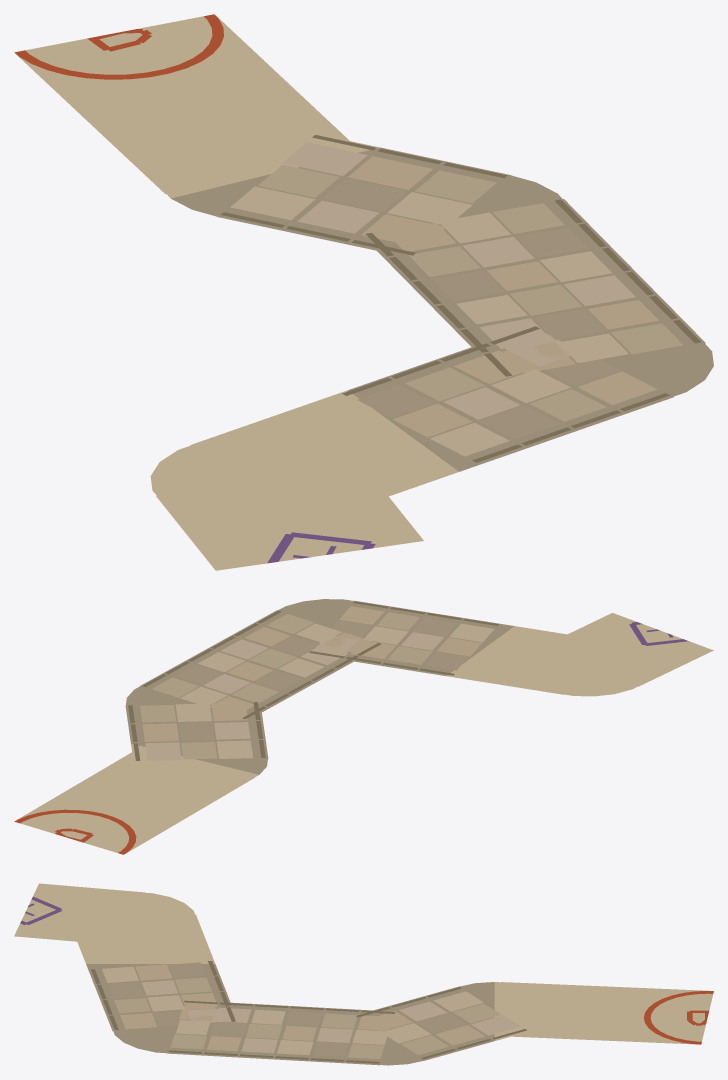
The model's file is route-pyramid_s-b-walk.glb.
The picture shows the model from 3 angles, top to bottom: view 1: azimuth 30°, elevation 25°; view 2: azimuth 150°, elevation 25°; view 3: azimuth 270°, elevation 25°; orthographic projection. The views are drawn at different scales.
Parts seen in each view (by area): view 1: Surveyed floor · route-pyramid_s-b-walk, South Pyramid to Bazaar Sanctuary / #C9B798, South Pyramid to Bazaar Sanctuary / #BDAD8E, South Pyramid to Bazaar Sanctuary / #C2AE8D, South Pyramid to Bazaar Sanctuary / #AE9D84, South Pyramid to Bazaar Sanctuary / #C7B399, South Pyramid to Bazaar Sanctuary / #85775D; view 2: Surveyed floor · route-pyramid_s-b-walk, South Pyramid to Bazaar Sanctuary / #C9B798, South Pyramid to Bazaar Sanctuary / #BDAD8E, South Pyramid to Bazaar Sanctuary / #C2AE8D, South Pyramid to Bazaar Sanctuary / #AE9D84, South Pyramid to Bazaar Sanctuary / #C7B399, South Pyramid to Bazaar Sanctuary / #85775D; view 3: Surveyed floor · route-pyramid_s-b-walk, South Pyramid to Bazaar Sanctuary / #BDAD8E, South Pyramid to Bazaar Sanctuary / #C9B798, South Pyramid to Bazaar Sanctuary / #C2AE8D, South Pyramid to Bazaar Sanctuary / #AE9D84, South Pyramid to Bazaar Sanctuary / #C7B399, South Pyramid to Bazaar Sanctuary / #85775D.
Boxes of the visible parts, <box> form: Surveyed floor · route-pyramid_s-b-walk: <box>14,14,713,570</box>; South Pyramid to Bazaar Sanctuary / #C9B798: <box>230,186,628,456</box>; South Pyramid to Bazaar Sanctuary / #BDAD8E: <box>258,164,682,421</box>; South Pyramid to Bazaar Sanctuary / #C2AE8D: <box>348,156,658,437</box>; South Pyramid to Bazaar Sanctuary / #AE9D84: <box>322,178,619,439</box>; South Pyramid to Bazaar Sanctuary / #C7B399: <box>282,142,635,419</box>; South Pyramid to Bazaar Sanctuary / #85775D: <box>221,135,701,462</box>; Surveyed floor · route-pyramid_s-b-walk: <box>14,599,713,854</box>; South Pyramid to Bazaar Sanctuary / #C9B798: <box>175,623,494,758</box>; South Pyramid to Bazaar Sanctuary / #BDAD8E: <box>140,612,432,759</box>; South Pyramid to Bazaar Sanctuary / #C2AE8D: <box>142,606,481,741</box>; South Pyramid to Bazaar Sanctuary / #AE9D84: <box>175,618,467,740</box>; South Pyramid to Bazaar Sanctuary / #C7B399: <box>145,632,443,760</box>; South Pyramid to Bazaar Sanctuary / #85775D: <box>128,601,498,760</box>; Surveyed floor · route-pyramid_s-b-walk: <box>14,883,713,1065</box>; South Pyramid to Bazaar Sanctuary / #BDAD8E: <box>114,977,501,1058</box>; South Pyramid to Bazaar Sanctuary / #C9B798: <box>102,966,483,1055</box>; South Pyramid to Bazaar Sanctuary / #C2AE8D: <box>120,964,485,1051</box>; South Pyramid to Bazaar Sanctuary / #AE9D84: <box>108,962,466,1056</box>; South Pyramid to Bazaar Sanctuary / #C7B399: <box>141,980,520,1053</box>; South Pyramid to Bazaar Sanctuary / #85775D: <box>91,961,526,1063</box>.
Size of the model in its own units: 20.24 by 0.026 by 32.89.
